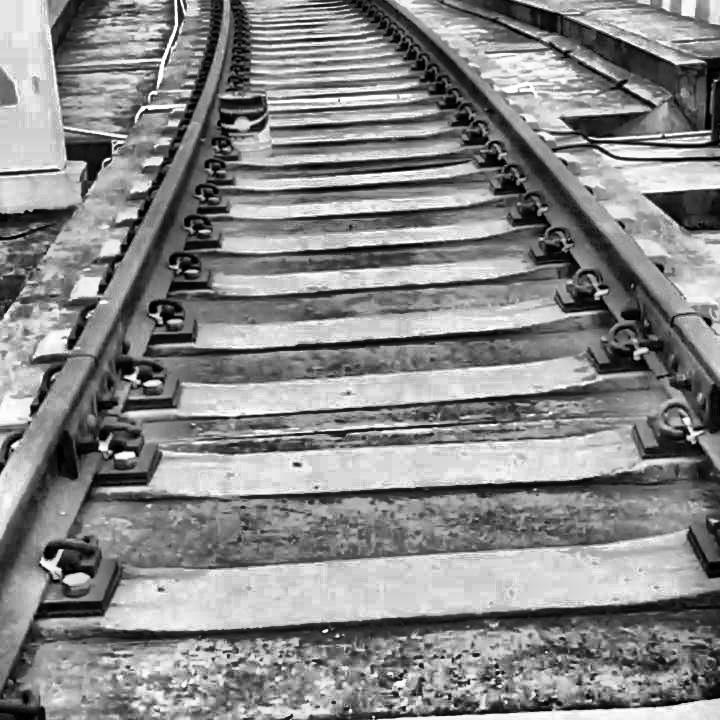Trash: (209, 72, 288, 160)
